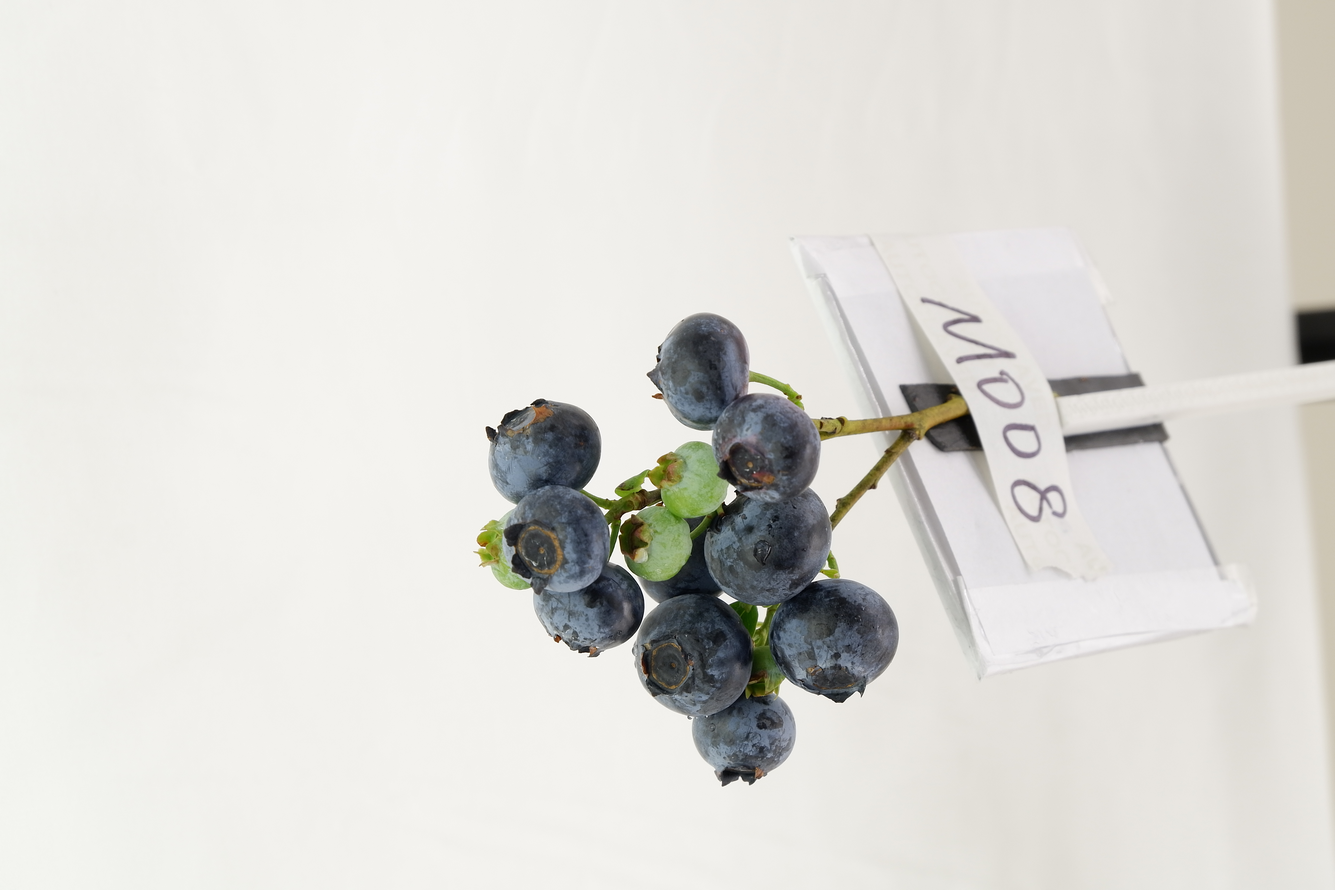Immature: (654, 442, 728, 518), (618, 506, 690, 580), (472, 510, 532, 591), (744, 644, 786, 697)
Mature: (769, 579, 897, 698), (705, 488, 832, 606), (633, 597, 754, 716), (648, 313, 747, 430), (712, 393, 821, 495), (504, 488, 610, 591), (490, 403, 600, 500), (534, 565, 644, 654), (694, 695, 794, 785), (637, 513, 726, 603)
